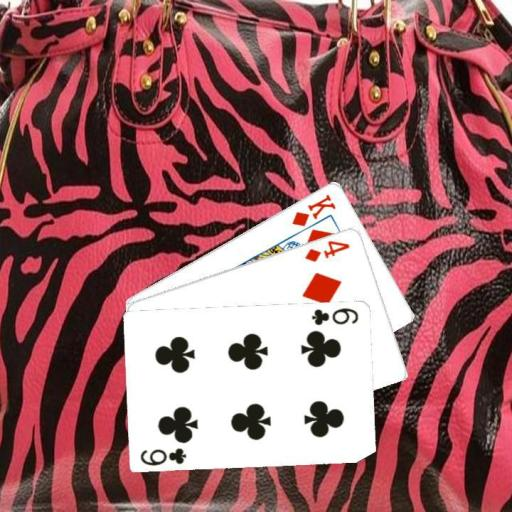4D: (302, 237, 352, 263)
6C: (310, 304, 361, 327), (138, 445, 188, 467)
KD: (288, 191, 338, 228)
